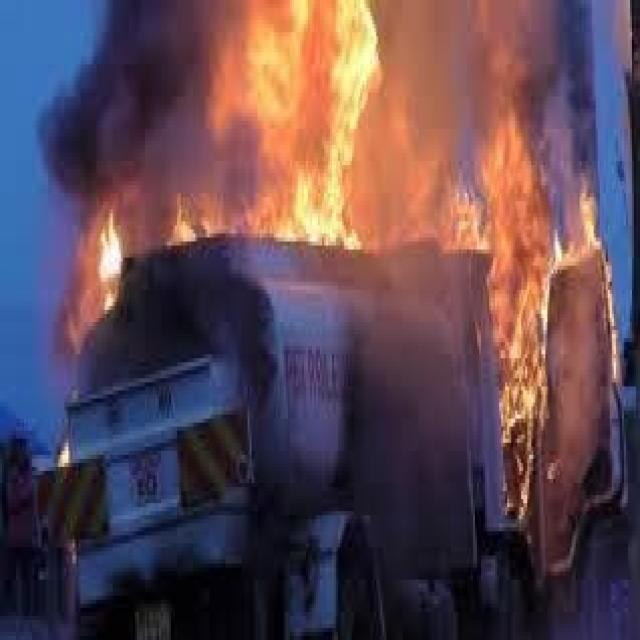fire: (411, 131, 626, 515), (156, 0, 379, 250), (90, 200, 124, 302), (52, 435, 70, 465)
smoke: (22, 4, 205, 180)
